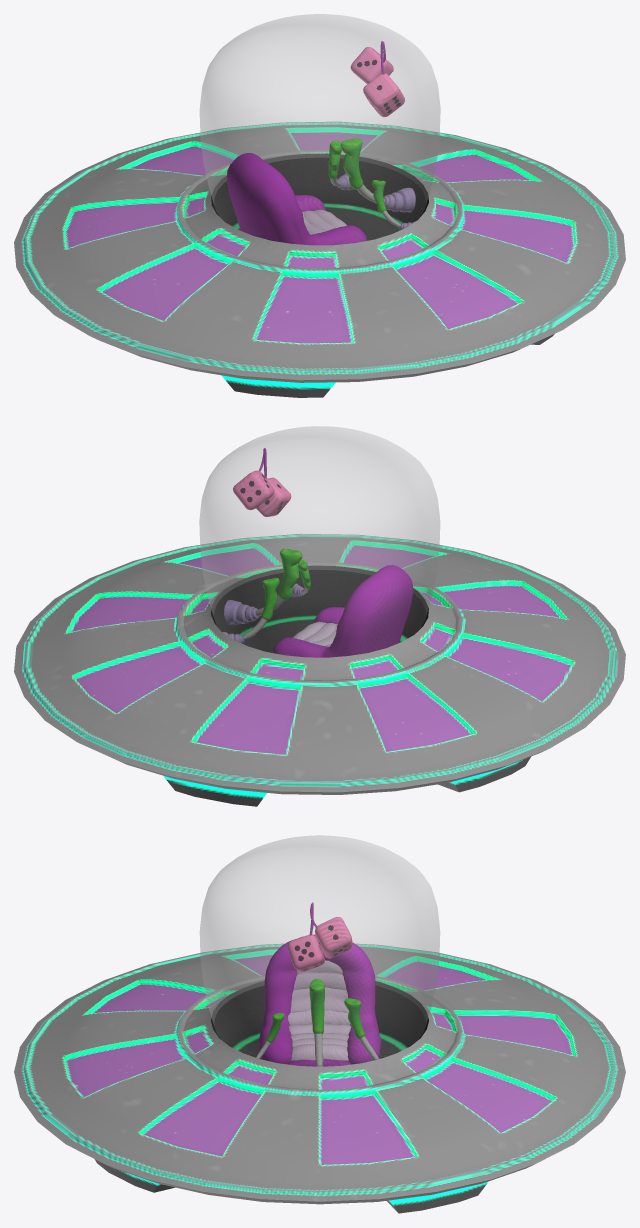
Rendered from ufo1.glb.
3 renders of one model, top to bottom at view 1: azimuth 30°, elevation 25°; view 2: azimuth 150°, elevation 25°; view 3: azimuth 270°, elevation 25°, orthographic.
Visible parts, largest first — view 1: Saucer; view 2: Saucer; view 3: Saucer.
Boxes of the visible parts, left/top/right/bottom form: Saucer: left=14, top=14, right=625, bottom=397; Saucer: left=14, top=426, right=625, bottom=806; Saucer: left=14, top=835, right=625, bottom=1213.
Size of the model in its own units: 5.07 by 2.65 by 5.07.
Materials: 2 (1 with a texture image).
